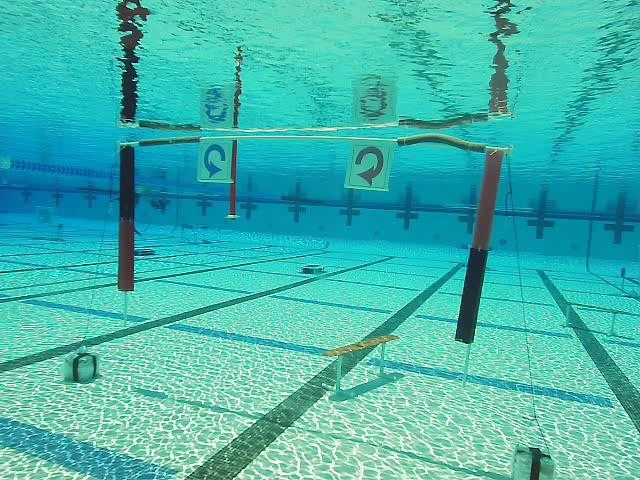dropper: (300, 262, 325, 276)
gate: (117, 134, 507, 344)
gate_blue: (199, 141, 230, 181)
gate_leg_l: (118, 141, 136, 292)
gate_leg_r: (454, 147, 506, 345)
gate_red: (347, 143, 392, 190)
torpedo: (35, 203, 52, 229)
